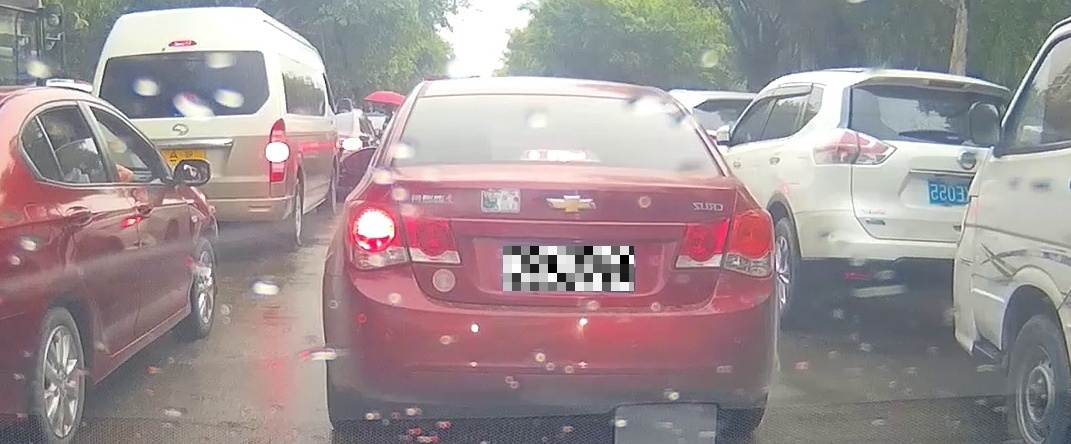L_light: (342, 200, 462, 272)
R_light: (673, 208, 776, 279)
T_light: (518, 149, 600, 163)
day-left: (322, 76, 779, 444)
plate_1: (503, 246, 634, 291)
